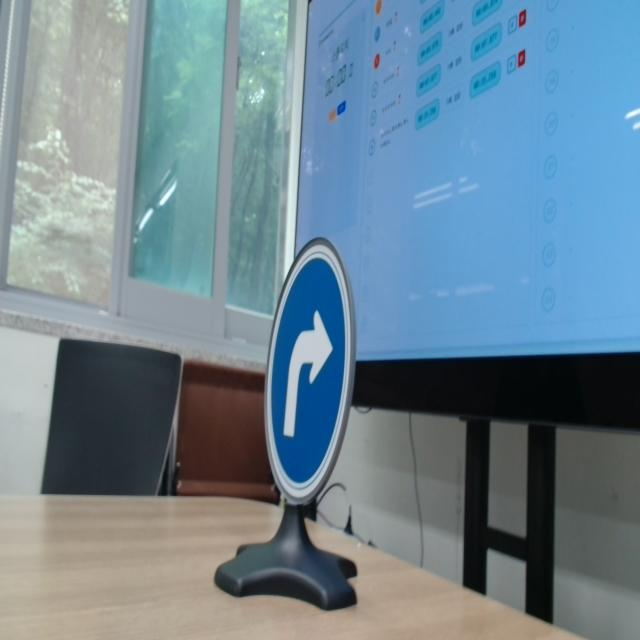right_dierection: (245, 223, 398, 532)
